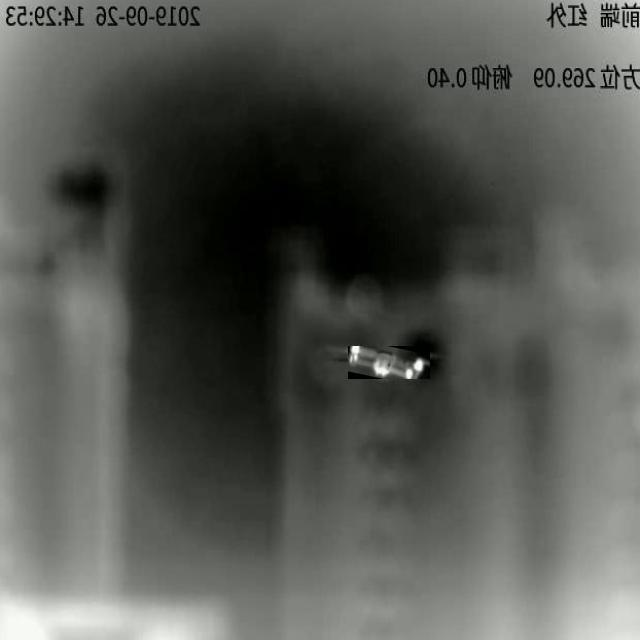drone: (348, 346, 430, 379)
